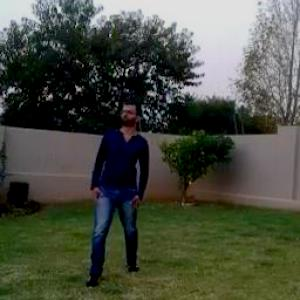follow: (84, 90, 152, 285)
